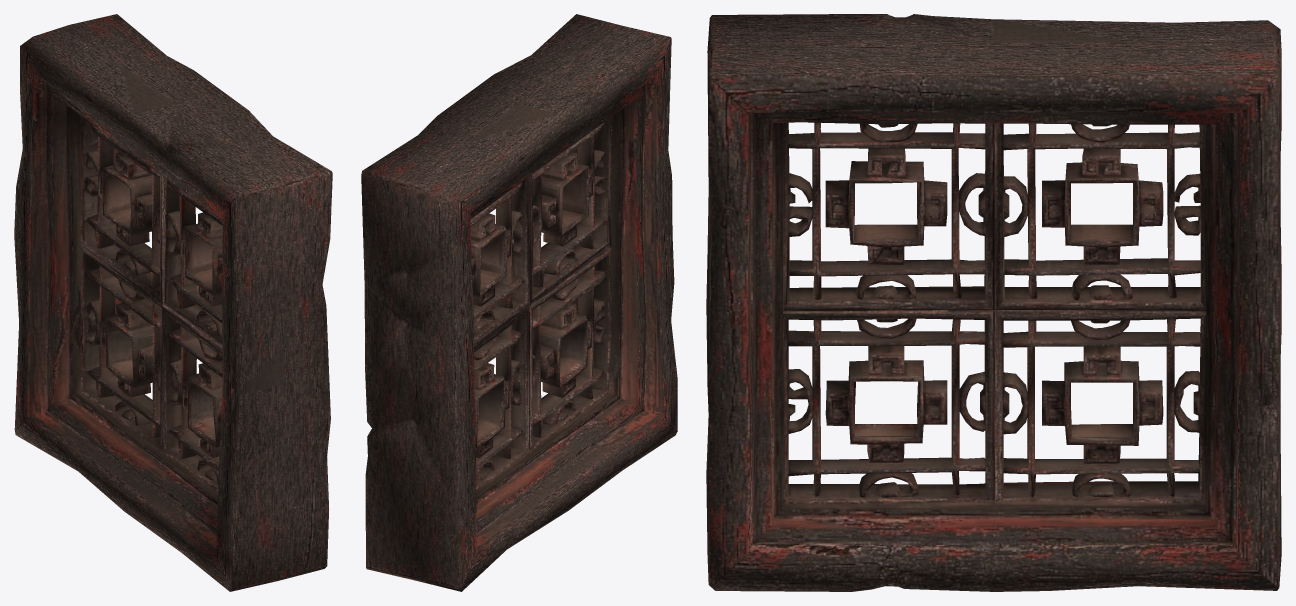
File: tripo_convert_d91d5802-5636-44ca-861e-f74b6f4a746d.fbx
The picture shows the model from 3 angles, left to right: view 1: azimuth 30°, elevation 25°; view 2: azimuth 150°, elevation 25°; view 3: azimuth 270°, elevation 25°; orthographic projection. The views are drawn at different scales.
Parts seen in each view (by area): view 1: tripo_node_d91d5802; view 2: tripo_node_d91d5802; view 3: tripo_node_d91d5802.
Part boxes in pixels (<box>): tripo_node_d91d5802: <box>14,14,332,591</box>; tripo_node_d91d5802: <box>361,14,677,591</box>; tripo_node_d91d5802: <box>706,14,1281,591</box>.
Bounding box in the file's own units: 0.2715 × 0.998 × 0.998.
Materials: 1 (1 with a texture image).
